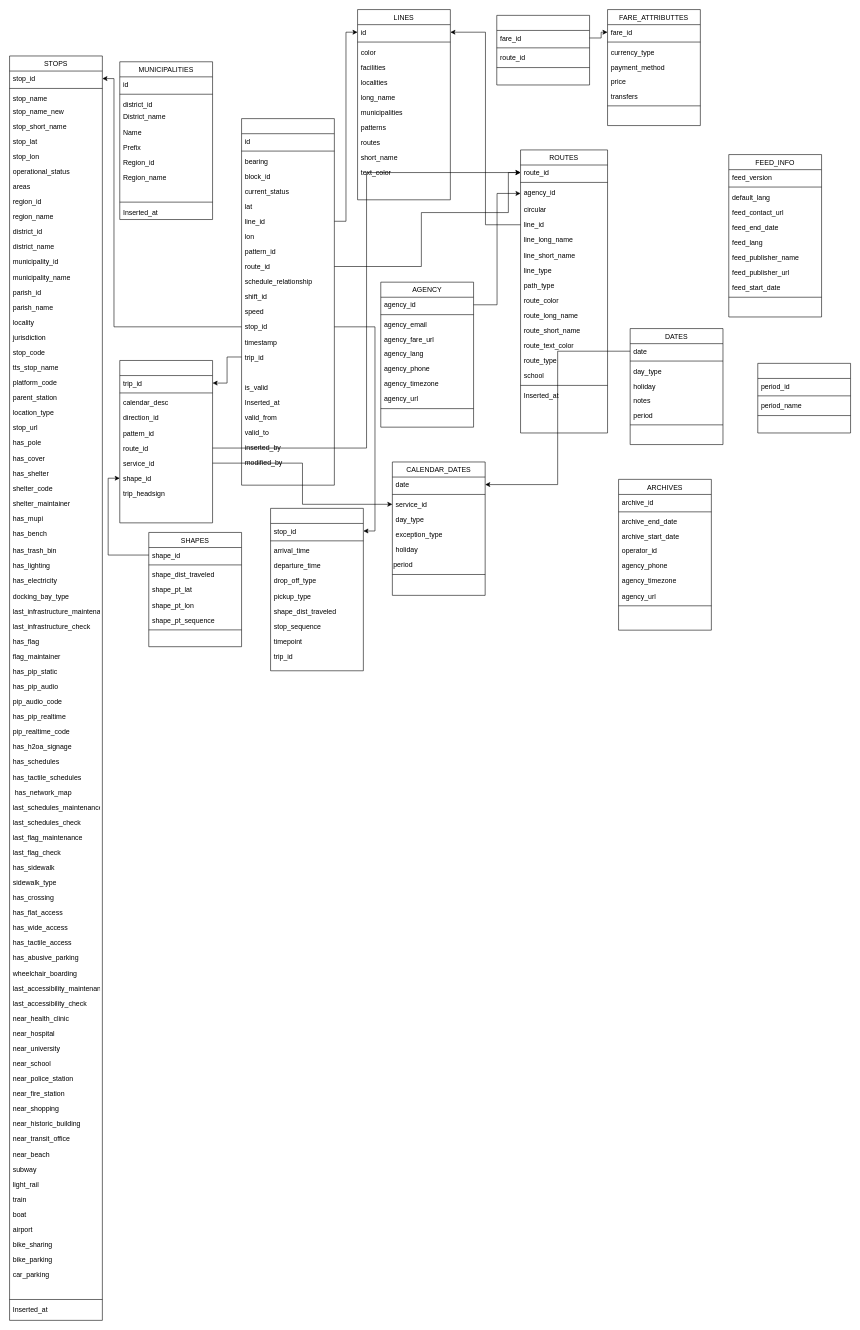
Image size: 860x1330. Some labels were removed from this diagram. The box of each missing label's shape, as (x1, y1, x2, y2) in pixels:
FARE_RULES: (496, 15, 590, 85)
PERIODS: (757, 363, 851, 433)
STOP_TIMES: (270, 508, 363, 671)
TRIPS: (119, 360, 213, 523)
VEHICLES: (241, 118, 334, 485)
